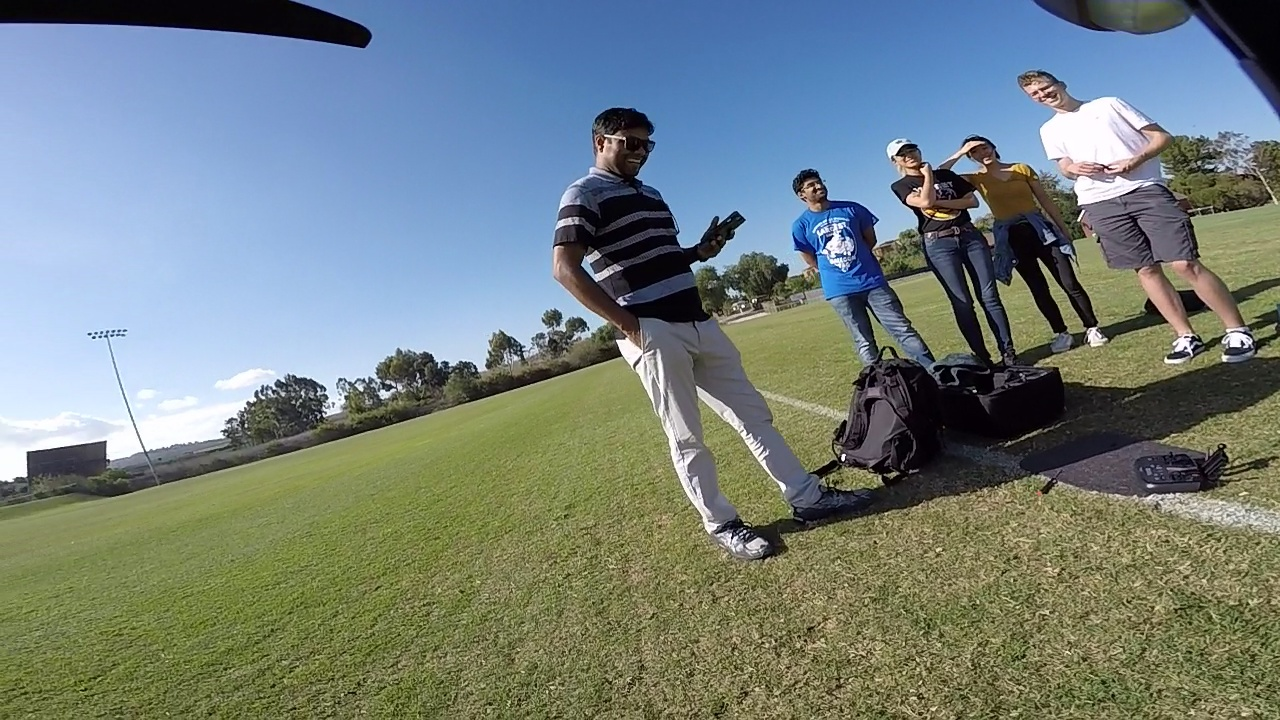person: (537, 105, 857, 555), (1024, 51, 1257, 365), (787, 160, 939, 415), (947, 132, 1108, 343), (890, 126, 1026, 358)
